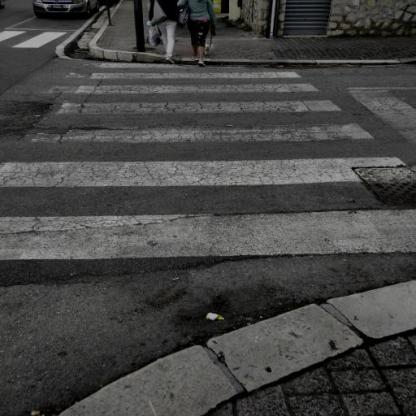crosswalk: (0, 151, 416, 269), (53, 80, 349, 122)
